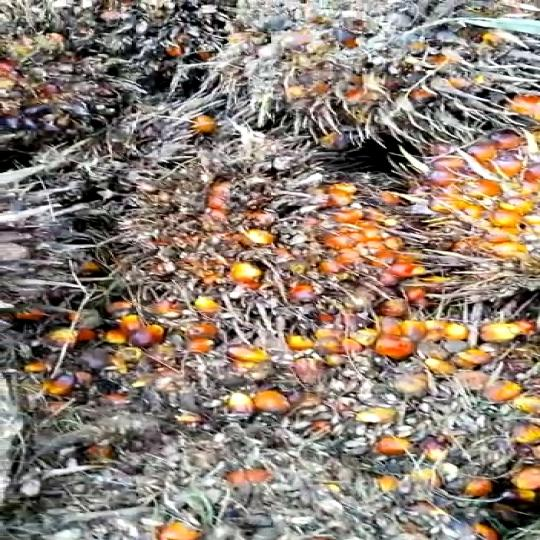terlalu masak: (274, 28, 533, 154)
